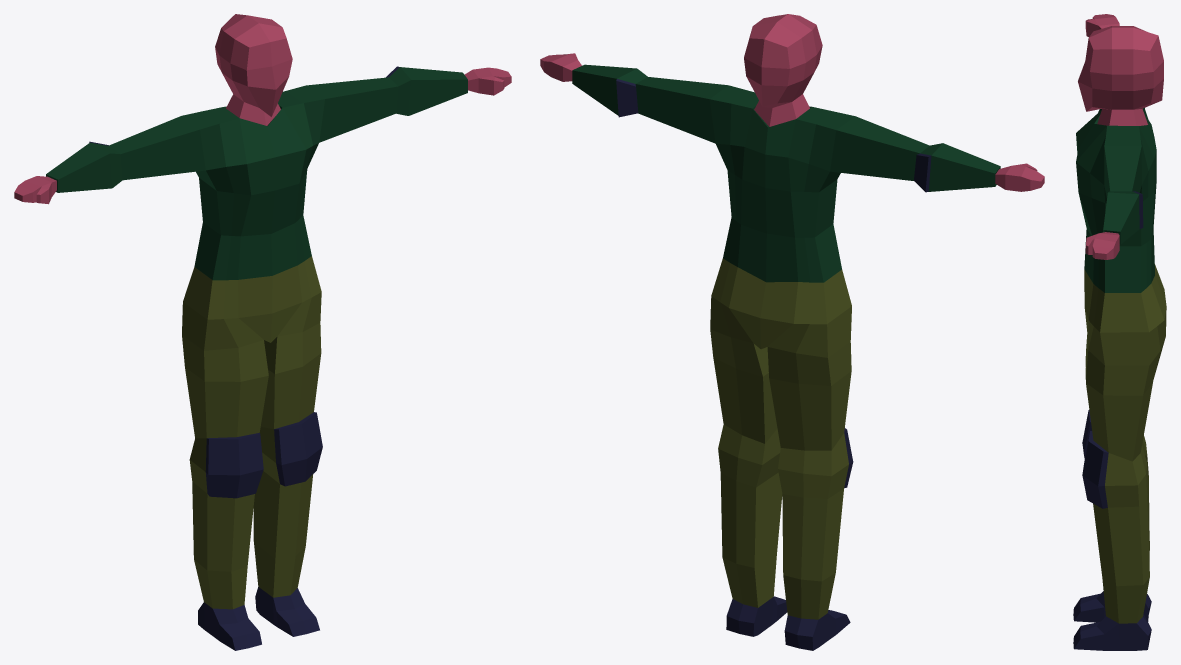
File: Human_Light_Raw.fbx
The picture shows the model from 3 angles, left to right: view 1: azimuth 30°, elevation 25°; view 2: azimuth 150°, elevation 25°; view 3: azimuth 270°, elevation 25°; orthographic projection.
Visible parts, largest first — view 1: MediumArmor, Body; view 2: MediumArmor, Body; view 3: MediumArmor, Body.
Part boxes in pixels (x1,y1,x2,y2): MediumArmor: [46, 66, 467, 650]; Body: [14, 14, 511, 204]; MediumArmor: [572, 64, 1000, 650]; Body: [540, 14, 1044, 191]; MediumArmor: [1073, 108, 1166, 650]; Body: [1078, 14, 1163, 259].
Bounding box in the file's own units: 171 × 200 × 28.03.
